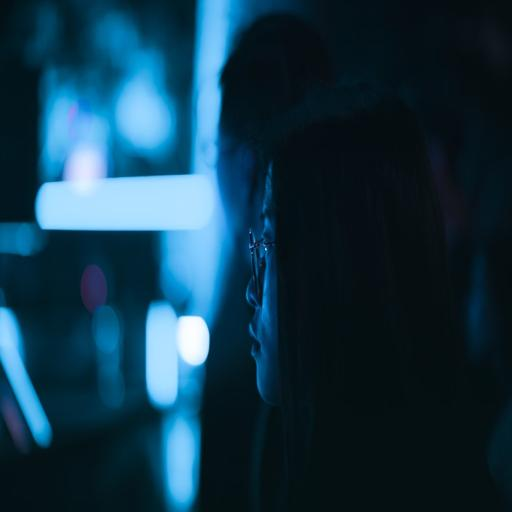face: (244, 168, 292, 410)
